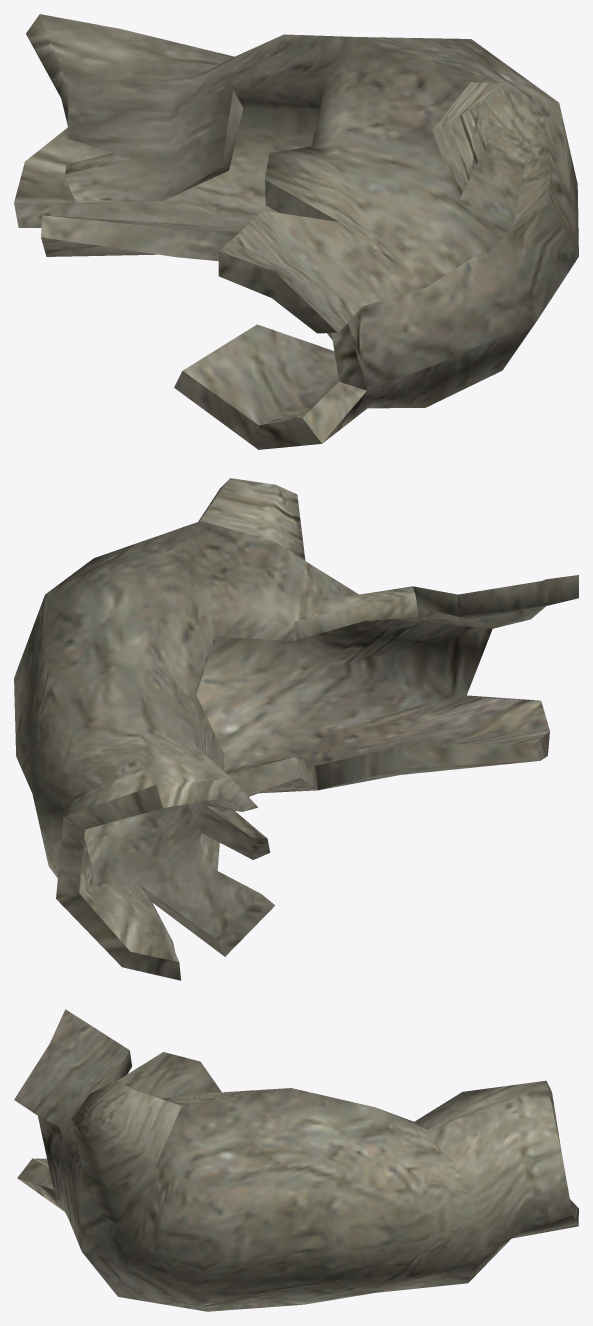
File: DN_lv2_kushu09.FBX
3 views of the same model, one above another, from view 1: azimuth 30°, elevation 25°; view 2: azimuth 150°, elevation 25°; view 3: azimuth 270°, elevation 25° (orthographic). The views are drawn at different scales.
Visible parts, largest first — view 1: DN_lv2_kushu09; view 2: DN_lv2_kushu09; view 3: DN_lv2_kushu09.
Boxes of the visible parts, x1,y1,x2,y2 form: DN_lv2_kushu09: (14,14,578,449); DN_lv2_kushu09: (14,478,578,980); DN_lv2_kushu09: (14,1009,578,1311).
Size of the model in its own units: 244 by 155 by 346.
